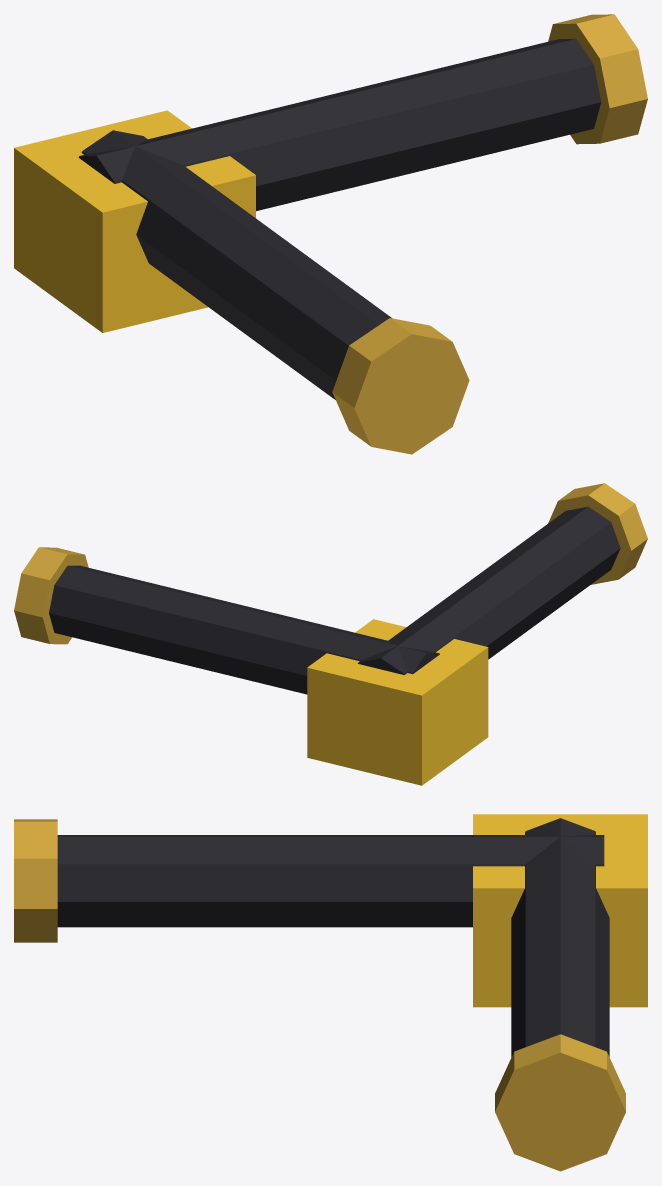
File: cable-elbow.glb
3 renders of one model, top to bottom at view 1: azimuth 30°, elevation 25°; view 2: azimuth 150°, elevation 25°; view 3: azimuth 270°, elevation 25°, orthographic. The views are drawn at different scales.
Parts seen in each view (by area): view 1: cable-elbow; view 2: cable-elbow; view 3: cable-elbow.
Boxes of the visible parts, x1,y1,x2,y2 form: cable-elbow: (14, 14, 647, 454); cable-elbow: (14, 483, 647, 785); cable-elbow: (14, 814, 647, 1171).
Bounding box in the file's own units: 0.58 × 0.15 × 0.58.
Materials: 1 (1 with a texture image).
